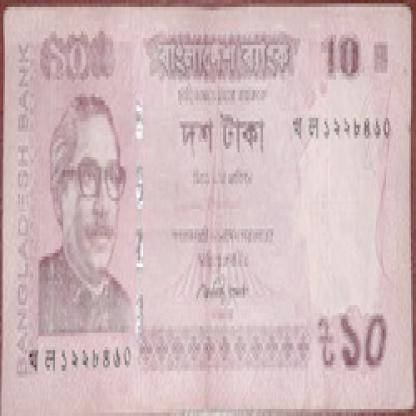Ten Taka: (313, 278, 403, 382), (316, 28, 400, 97), (42, 28, 114, 90), (323, 291, 376, 364)
